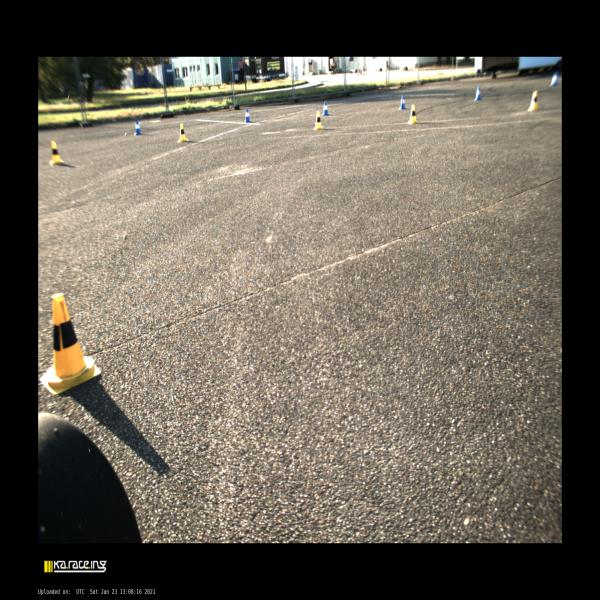blue_cone: (134, 120, 142, 136), (474, 86, 482, 101), (398, 95, 406, 109), (244, 109, 252, 122), (550, 72, 557, 86), (322, 101, 329, 115)
yellow_cone: (39, 293, 101, 395), (49, 140, 64, 166), (177, 123, 189, 143), (527, 90, 537, 111), (408, 105, 418, 124), (314, 112, 323, 130)
